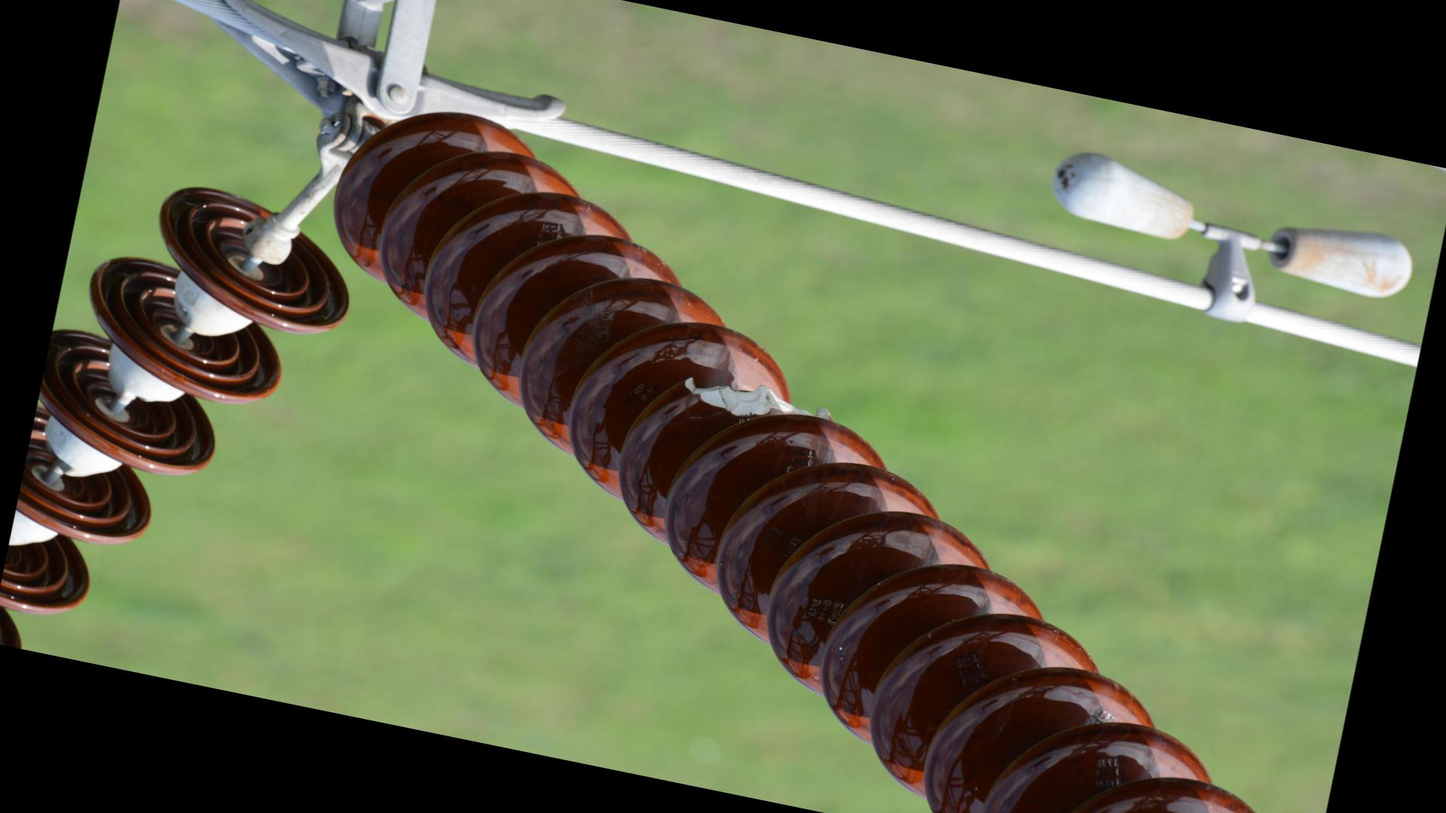damper: (1026, 135, 1432, 367)
